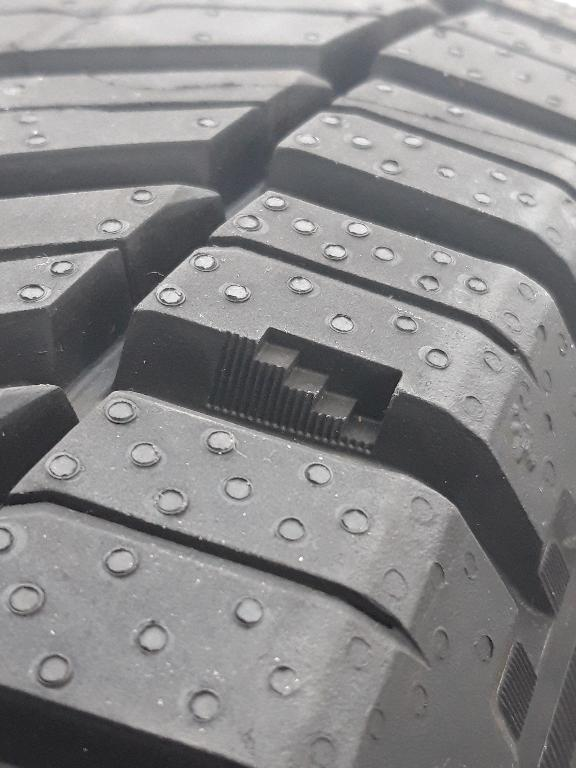temoin:100: (202, 322, 408, 463)
